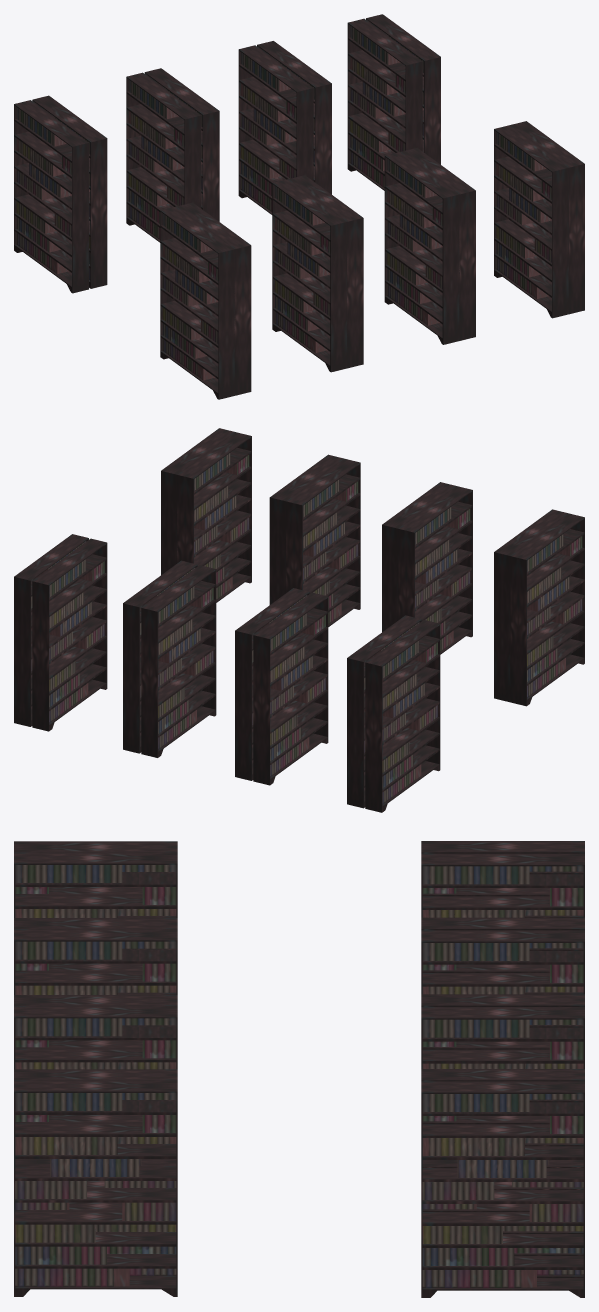
File: gruppa_skaf_biblioteka.fbx
3 renders of one model, top to bottom at view 1: azimuth 30°, elevation 25°; view 2: azimuth 150°, elevation 25°; view 3: azimuth 270°, elevation 25°, orthographic. The views are drawn at different scales.
Visible parts, largest first — view 1: biblio_skaf006, biblio_skaf010, biblio_skaf015, biblio_skaf014, biblio_skaf002, biblio_skaf003, biblio_skaf007, biblio_skaf011, biblio_skaf012, biblio_skaf013, biblio_skaf009, biblio_skaf005 (+4 smaller); view 2: biblio_skaf011, biblio_skaf003, biblio_skaf007, biblio_skaf015, biblio_skaf014, biblio_skaf002, biblio_skaf006, biblio_skaf010, biblio_skaf, biblio_skaf012, biblio_skaf004, biblio_skaf008 (+4 smaller); view 3: biblio_skaf, biblio_skaf001, biblio_skaf009, biblio_skaf013, biblio_skaf005, biblio_skaf012, biblio_skaf008, biblio_skaf004, biblio_skaf002, biblio_skaf003, biblio_skaf011, biblio_skaf015 (+4 smaller).
Part boxes in pixels (left/top/right/bottom): biblio_skaf006: left=384, top=151, right=459, bottom=344; biblio_skaf010: left=272, top=179, right=347, bottom=372; biblio_skaf015: left=14, top=100, right=88, bottom=293; biblio_skaf014: left=160, top=206, right=235, bottom=399; biblio_skaf002: left=494, top=125, right=568, bottom=318; biblio_skaf003: left=347, top=18, right=422, bottom=190; biblio_skaf007: left=238, top=45, right=313, bottom=214; biblio_skaf011: left=126, top=72, right=201, bottom=242; biblio_skaf012: left=32, top=95, right=107, bottom=288; biblio_skaf013: left=176, top=202, right=251, bottom=395; biblio_skaf009: left=289, top=175, right=363, bottom=368; biblio_skaf005: left=401, top=147, right=475, bottom=340; biblio_skaf011: left=253, top=592, right=328, bottom=785; biblio_skaf003: left=32, top=538, right=107, bottom=731; biblio_skaf007: left=141, top=565, right=216, bottom=757; biblio_skaf015: left=365, top=620, right=440, bottom=812; biblio_skaf014: left=510, top=513, right=584, bottom=706; biblio_skaf002: left=177, top=432, right=251, bottom=602; biblio_skaf006: left=286, top=458, right=360, bottom=626; biblio_skaf010: left=398, top=486, right=472, bottom=654; biblio_skaf: left=14, top=534, right=88, bottom=726; biblio_skaf012: left=347, top=615, right=421, bottom=808; biblio_skaf004: left=123, top=560, right=197, bottom=753; biblio_skaf008: left=235, top=588, right=309, bottom=780; biblio_skaf: left=421, top=1081, right=584, bottom=1297; biblio_skaf001: left=14, top=1080, right=177, bottom=1296; biblio_skaf009: left=14, top=929, right=177, bottom=994; biblio_skaf013: left=14, top=852, right=177, bottom=917; biblio_skaf005: left=14, top=1006, right=177, bottom=1069; biblio_skaf012: left=421, top=853, right=584, bottom=917; biblio_skaf008: left=421, top=930, right=584, bottom=994; biblio_skaf004: left=421, top=1007, right=584, bottom=1068; biblio_skaf002: left=14, top=1069, right=177, bottom=1276; biblio_skaf003: left=421, top=1069, right=584, bottom=1277; biblio_skaf011: left=421, top=917, right=584, bottom=994; biblio_skaf015: left=421, top=841, right=584, bottom=917.
Bounding box in the file's own units: 430 × 163 × 412.
Materials: 1 (1 with a texture image).
